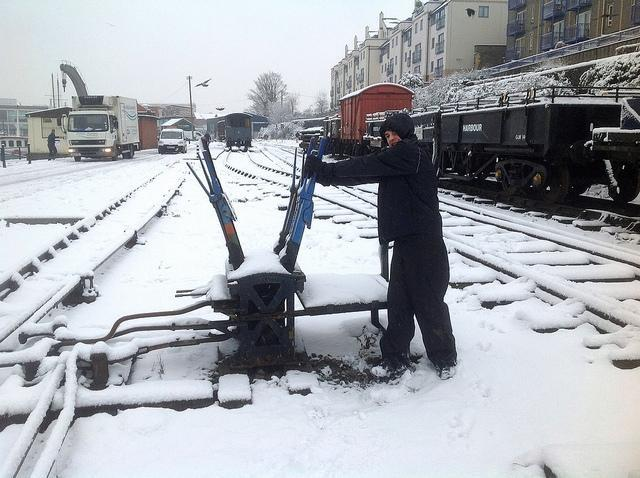truck: (63, 96, 140, 162), (156, 128, 188, 154)
